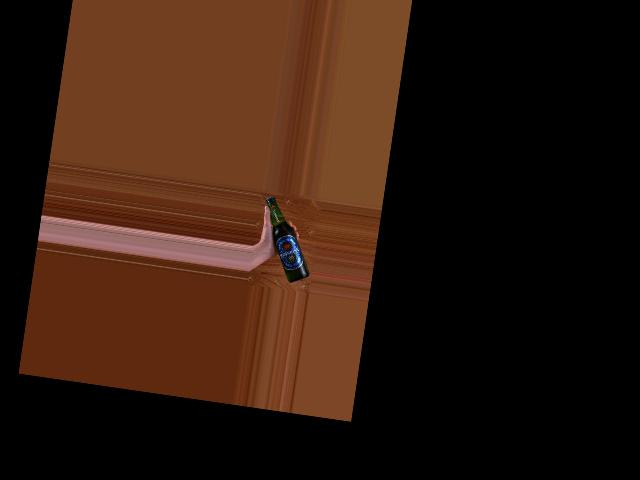beer: (254, 195, 319, 285)
